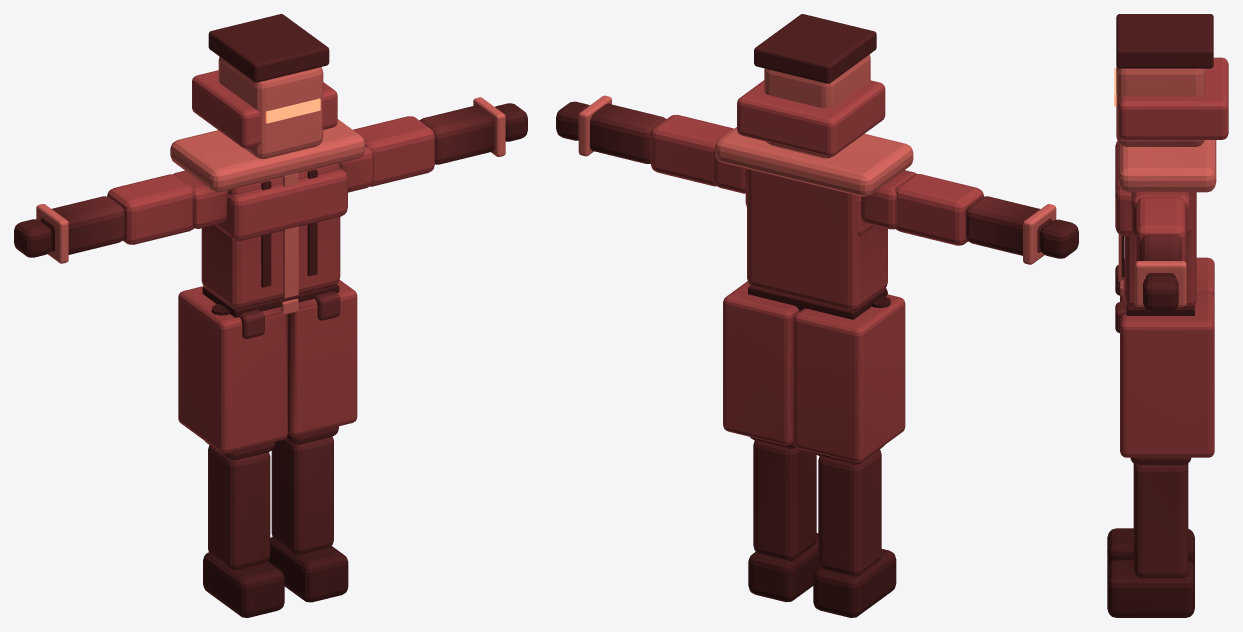
Rendered from enemy_commander.glb.
3 views of the same model, side by side, from view 1: azimuth 30°, elevation 25°; view 2: azimuth 150°, elevation 25°; view 3: azimuth 270°, elevation 25° (orthographic). The views are drawn at different scales.
Visible parts, largest first — view 1: commander; view 2: commander; view 3: commander.
Part boxes in pixels (x1=…): commander: x1=14, y1=14, x2=527, y2=617; commander: x1=556, y1=14, x2=1078, y2=617; commander: x1=1107, y1=14, x2=1228, y2=617.
Size of the model in its own units: 1.83 by 1.91 by 0.3724.
